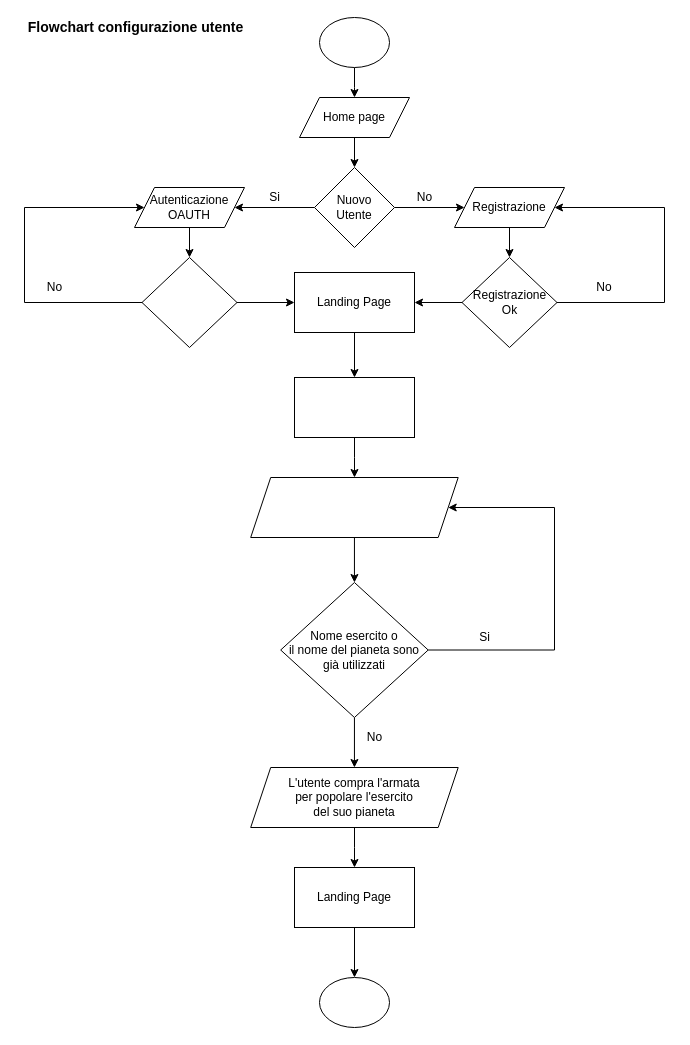
Image size: 690x1045. Some labels were removed from this diagram. Here are the shapes that lost their labels. From the top down, the box of each, then its label:
(318, 16, 390, 68): START
(141, 256, 237, 348): Autenticazione riuscita
(294, 376, 414, 438): Assegnare all'utente: 1 Pianeta 1 Armata vuota n. "crediti"
(250, 476, 458, 538): L'utente personalizza il nome del pianeta e il nome dell'esercito
(318, 976, 390, 1028): END
